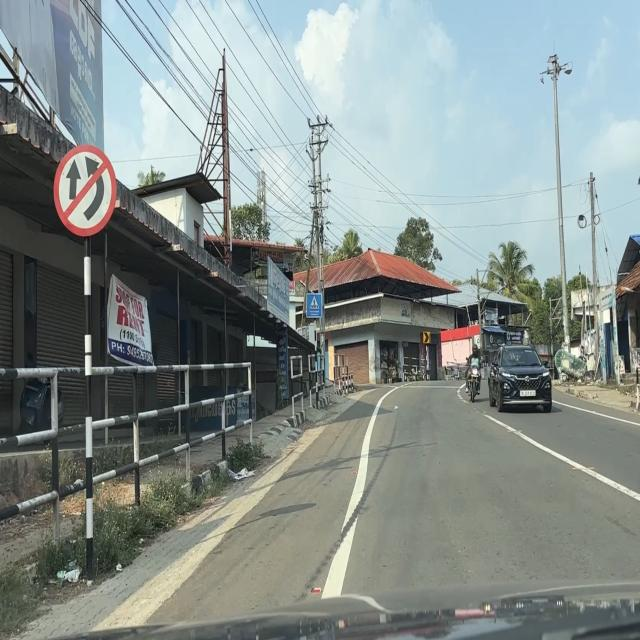OVERTAKING_PROHIBITED: (53, 144, 118, 238)
PEDESTRIAN_CROSSING: (306, 293, 323, 318)
TURN_RIGHT: (423, 331, 430, 344)
